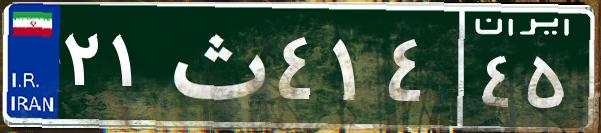1: (330, 28, 385, 110), (110, 28, 158, 105)
2: (57, 26, 110, 107)
4: (385, 28, 445, 110), (273, 28, 330, 110), (475, 38, 525, 113)
5: (525, 38, 570, 115)
ث: (158, 15, 273, 115)
